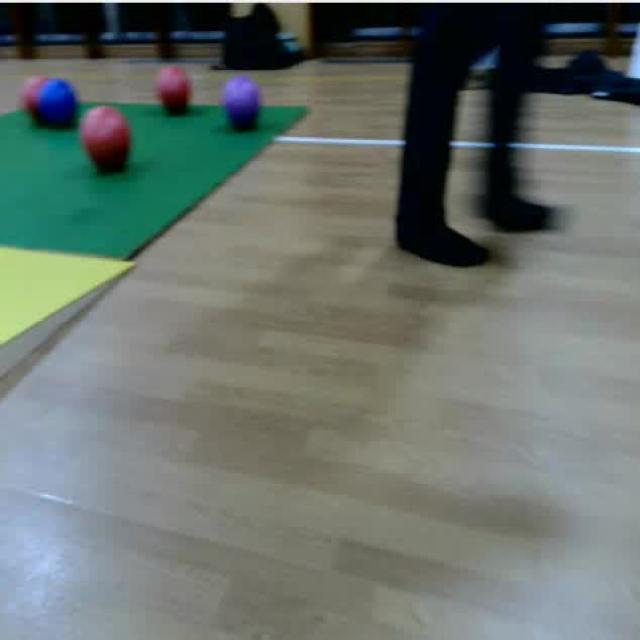blue_ball: (38, 74, 78, 136)
purple_ball: (219, 74, 264, 133)
red_ball: (78, 100, 134, 180), (155, 64, 192, 116), (22, 75, 50, 121)
